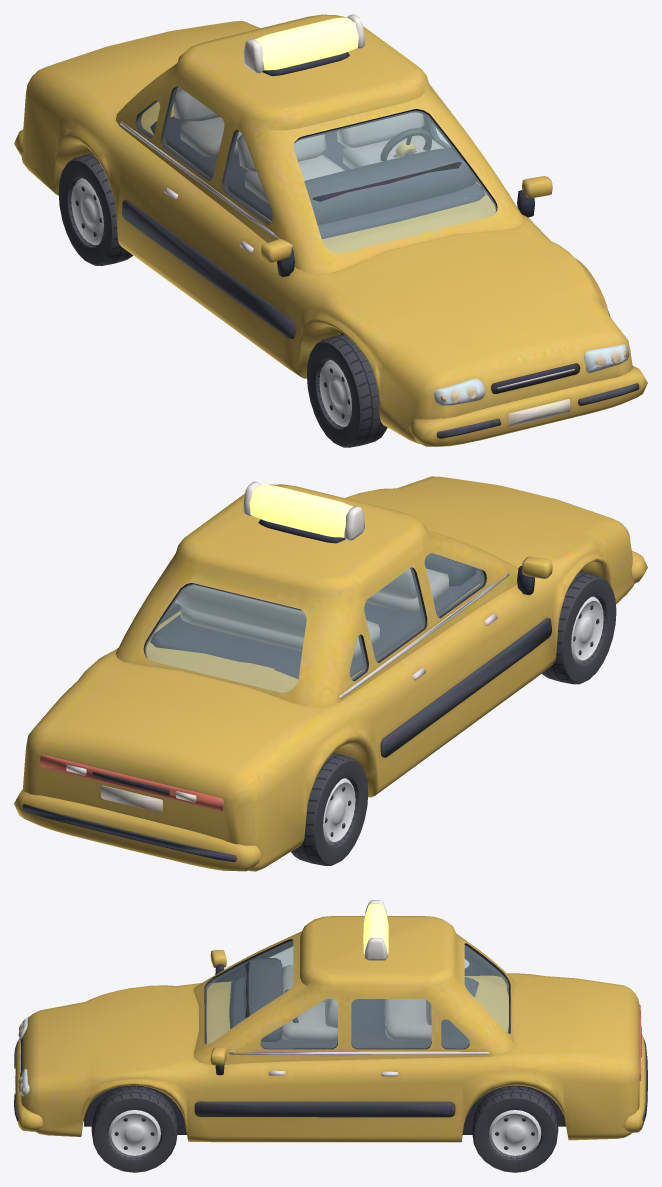
The model's file is taxi90.glb.
3 renders of one model, top to bottom at view 1: azimuth 30°, elevation 25°; view 2: azimuth 150°, elevation 25°; view 3: azimuth 270°, elevation 25°, orthographic. The views are drawn at different scales.
Visible parts, largest first — view 1: 1990s-taxi_body, 1990s-taxi_windows, 1990s-taxi_wheel_fr, 1990s-taxi_wheel_rr, 1990s-taxi_roof_sign; view 2: 1990s-taxi_body, 1990s-taxi_windows, 1990s-taxi_wheel_rr, 1990s-taxi_wheel_fr, 1990s-taxi_roof_sign; view 3: 1990s-taxi_body, 1990s-taxi_windows, 1990s-taxi_wheel_fl, 1990s-taxi_wheel_rl, 1990s-taxi_roof_sign.
Part boxes in pixels (box(x1,y1,x2,y2)): 1990s-taxi_body: box(14, 14, 647, 446); 1990s-taxi_windows: box(138, 87, 496, 252); 1990s-taxi_wheel_fr: box(307, 334, 387, 447); 1990s-taxi_wheel_rr: box(58, 153, 132, 265); 1990s-taxi_roof_sign: box(243, 14, 364, 76); 1990s-taxi_body: box(14, 476, 647, 871); 1990s-taxi_windows: box(145, 553, 484, 692); 1990s-taxi_wheel_rr: box(291, 753, 368, 865); 1990s-taxi_wheel_fr: box(541, 571, 616, 684); 1990s-taxi_roof_sign: box(243, 481, 364, 543); 1990s-taxi_body: box(14, 916, 647, 1142); 1990s-taxi_windows: box(206, 941, 508, 1048); 1990s-taxi_wheel_fl: box(91, 1086, 177, 1172); 1990s-taxi_wheel_rl: box(472, 1086, 558, 1172); 1990s-taxi_roof_sign: box(363, 900, 388, 960).
Bounding box in the file's own units: 1.94 × 1.75 × 4.83.
8 materials, 2 textured.
